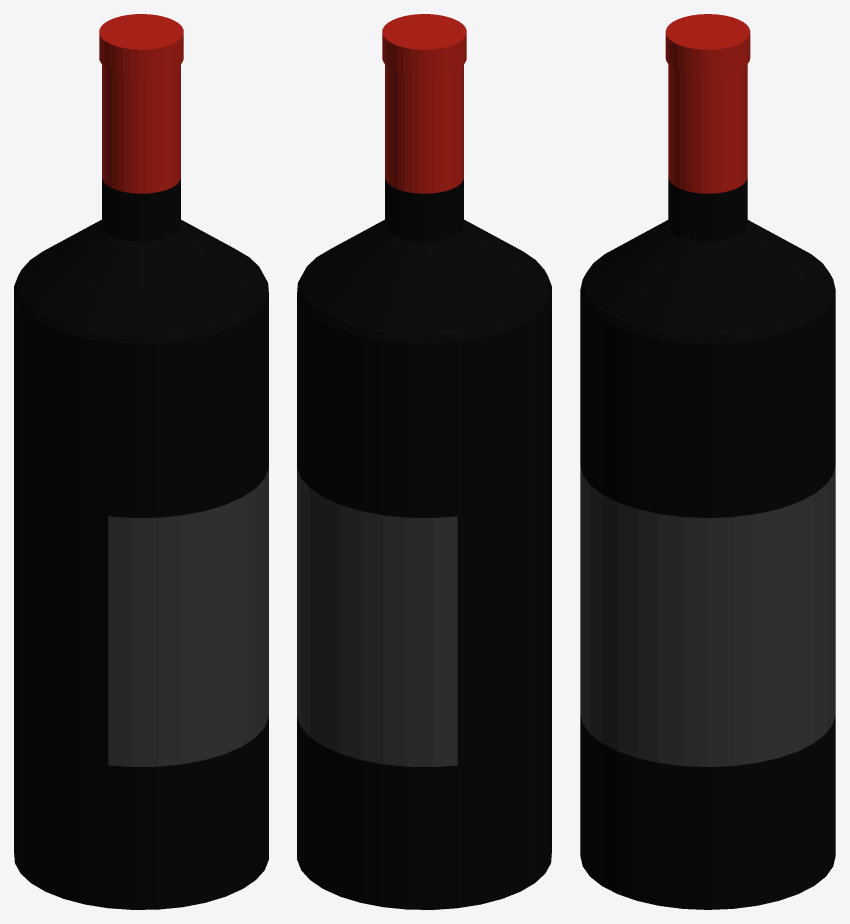
The model's file is WineBottleV2.fbx.
3 views of the same model, side by side, from view 1: azimuth 30°, elevation 25°; view 2: azimuth 150°, elevation 25°; view 3: azimuth 270°, elevation 25° (orthographic).
Parts seen in each view (by area): view 1: Cylinder.001; view 2: Cylinder.001; view 3: Cylinder.001.
Part boxes in pixels (x1,y1,x2,y2): Cylinder.001: (14,14,268,909); Cylinder.001: (297,14,551,909); Cylinder.001: (580,14,835,909).
Bounding box in the file's own units: 116 × 116 × 412.
